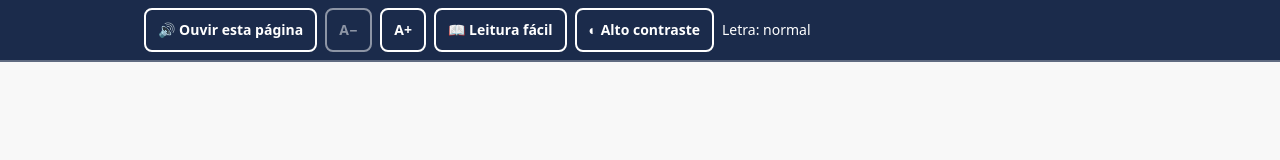
Test: BarraAcessibilidade › aumenta e diminui o tamanho da fonte
Check: the button named "diminuir letra" is disabled, box x1=325 y1=8 x2=372 y2=52
Check: the text "Letra: normal" is shown, box x1=722 y1=20 x2=810 y2=40
Click the button named "aumentar letra": [403, 30] box x1=380 y1=8 x2=426 y2=52
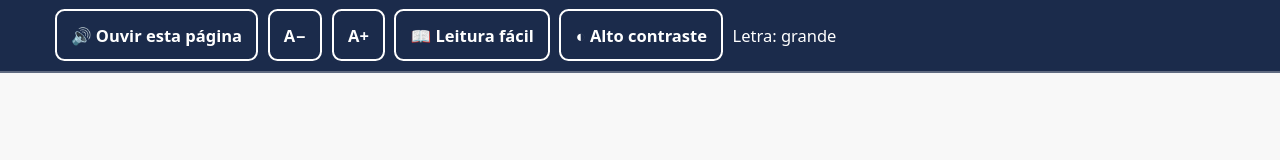
Check: the text "Letra: grande" is shown, box x1=732 y1=24 x2=836 y2=47
Click the button named "aumentar letra": [358, 35] box x1=332 y1=9 x2=385 y2=61
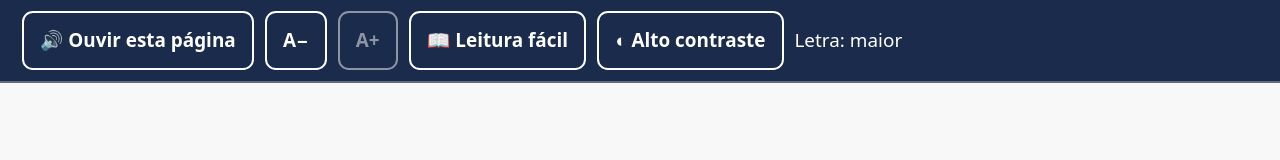
Check: the text "Letra: maior" is shown, box x1=794 y1=27 x2=902 y2=54
Check: the button named "aumentar letra" is disabled, box x1=338 y1=11 x2=398 y2=70
Click the button named "diminuir letra": [296, 40] box x1=265 y1=11 x2=327 y2=70
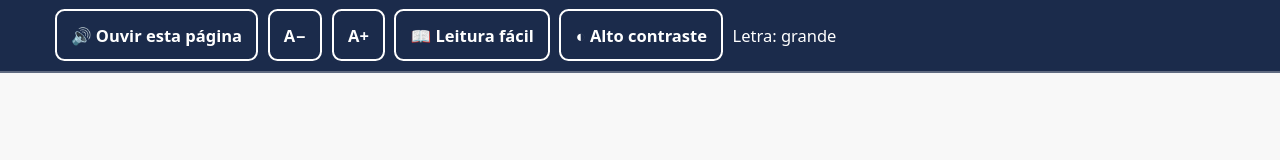
Check: the text "Letra: grande" is shown, box x1=732 y1=24 x2=836 y2=47
